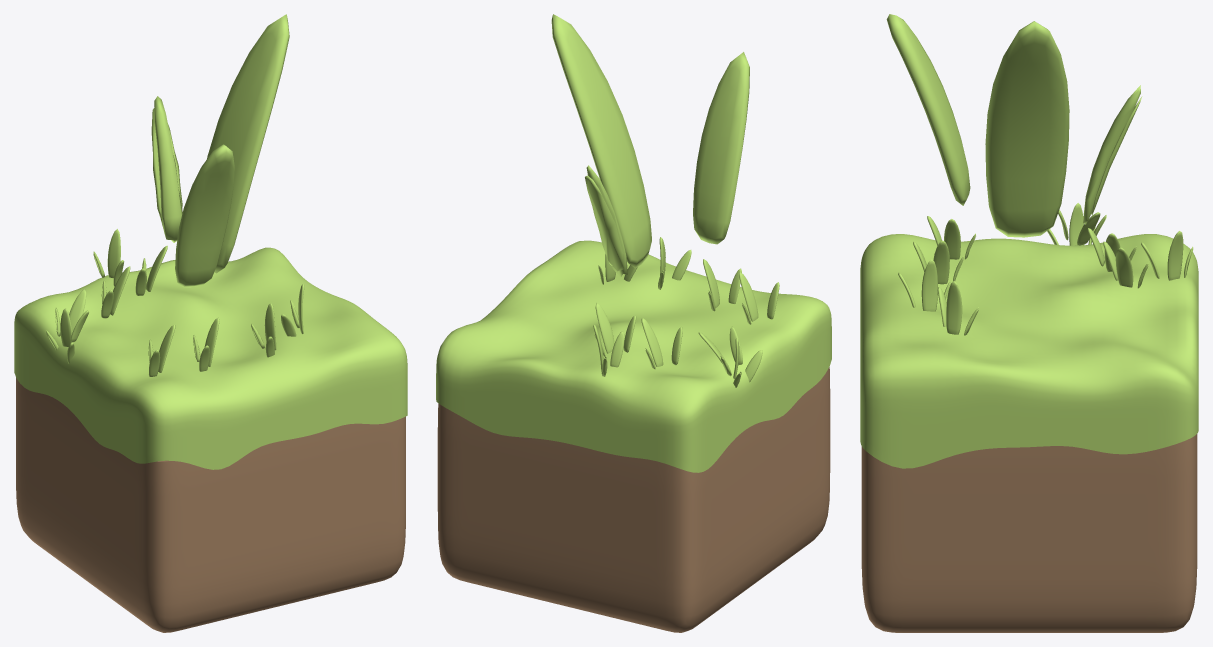
The model's file is grass2.fbx.
3 renders of one model, left to right at view 1: azimuth 30°, elevation 25°; view 2: azimuth 150°, elevation 25°; view 3: azimuth 270°, elevation 25°, orthographic. The views are drawn at different scales.
Parts seen in each view (by area): view 1: Cube.002, Plane; view 2: Cube.002, Plane; view 3: Cube.002, Plane.
Part boxes in pixels (bbox=[...]): Cube.002: bbox=[14, 229, 407, 632]; Plane: bbox=[151, 14, 289, 287]; Cube.002: bbox=[436, 237, 831, 632]; Plane: bbox=[551, 14, 749, 277]; Cube.002: bbox=[860, 203, 1198, 632]; Plane: bbox=[886, 14, 1142, 237].
Size of the model in its own units: 206 by 390 by 202.
